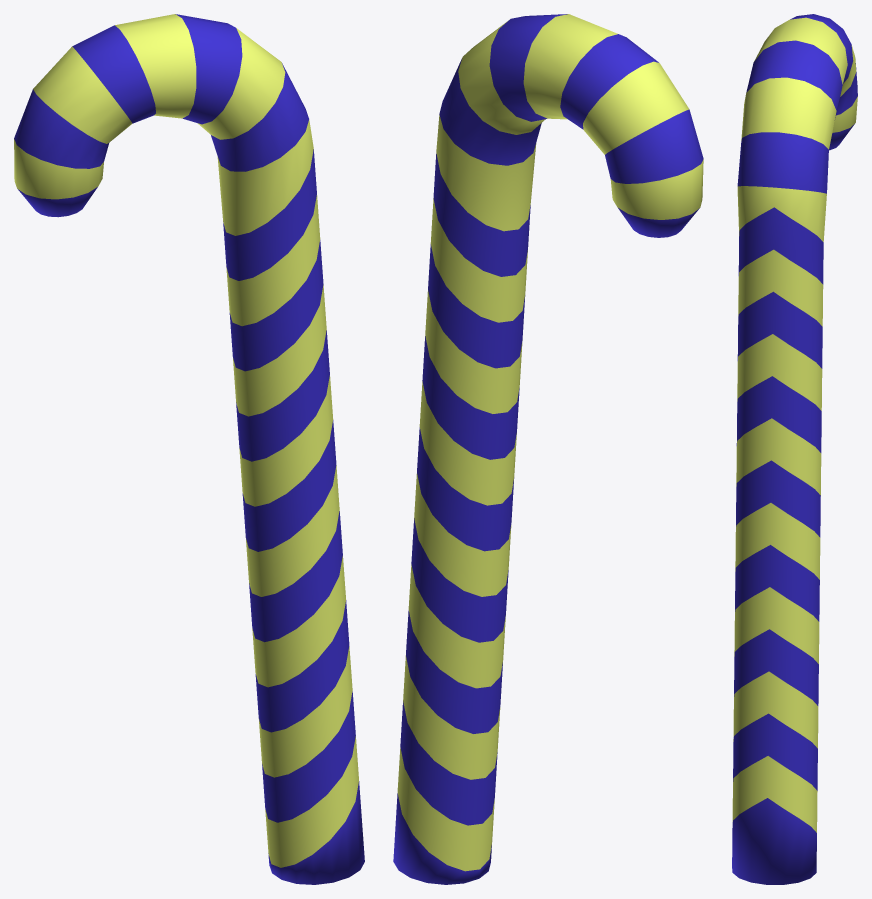
File: candy_cane_yb1.fbx
3 renders of one model, left to right at view 1: azimuth 30°, elevation 25°; view 2: azimuth 150°, elevation 25°; view 3: azimuth 270°, elevation 25°, orthographic. The views are drawn at different scales.
Parts seen in each view (by area): view 1: Cylinder; view 2: Cylinder; view 3: Cylinder.
Boxes of the visible parts, bbox=[...] form: Cylinder: bbox=[14, 14, 364, 884]; Cylinder: bbox=[393, 14, 703, 884]; Cylinder: bbox=[732, 14, 857, 884].
Bounding box in the file's own units: 716 × 1899 × 278.
